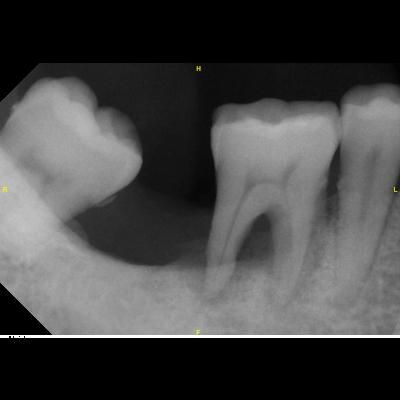tooth: (332, 80, 400, 310)
